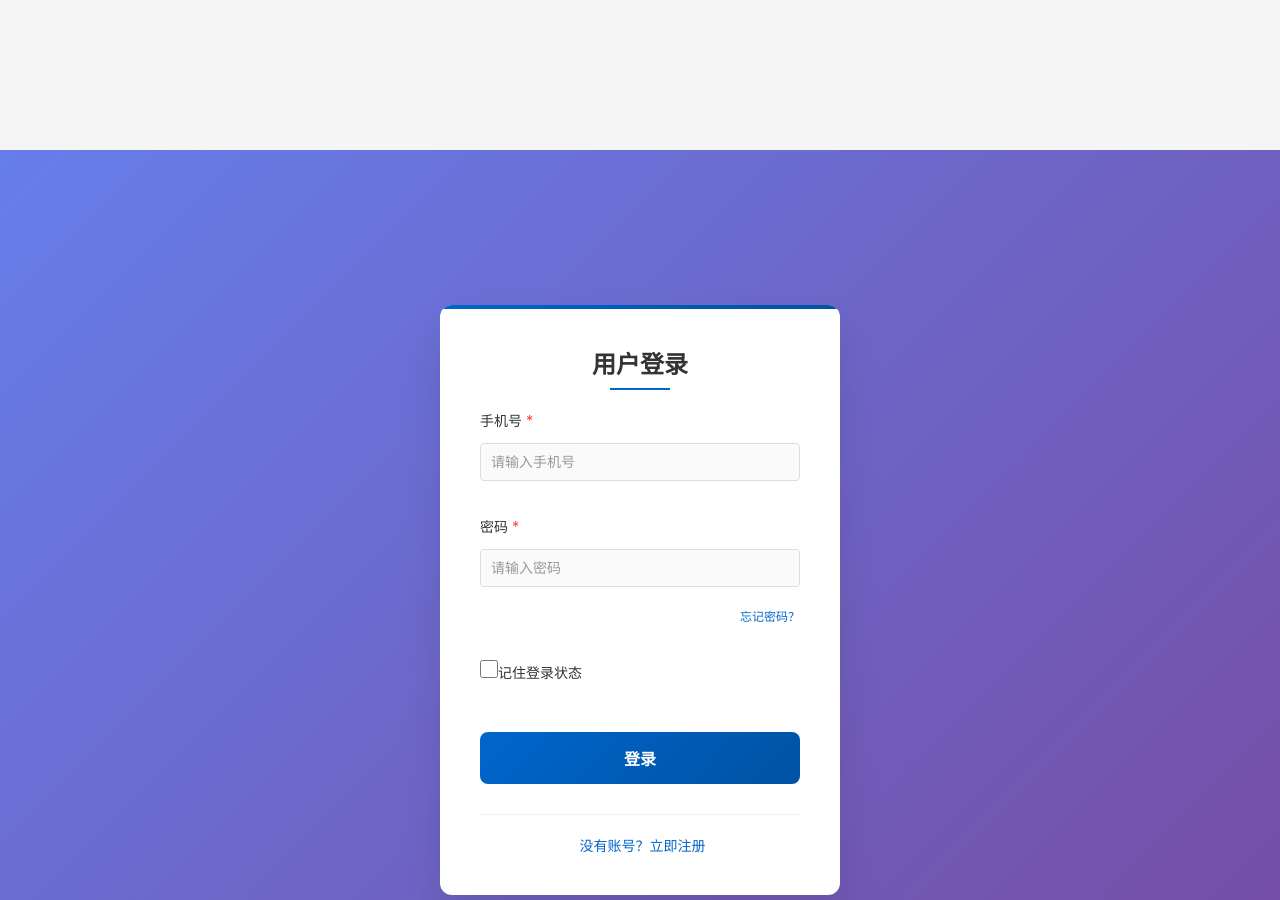
Scenario: LoginPage Component › 应该处理登录失败 - 密码错误
The image size is (1280, 900).
Type "13800138000" into the field labelled "手机号" at (640, 462), box [480,443,800,481]
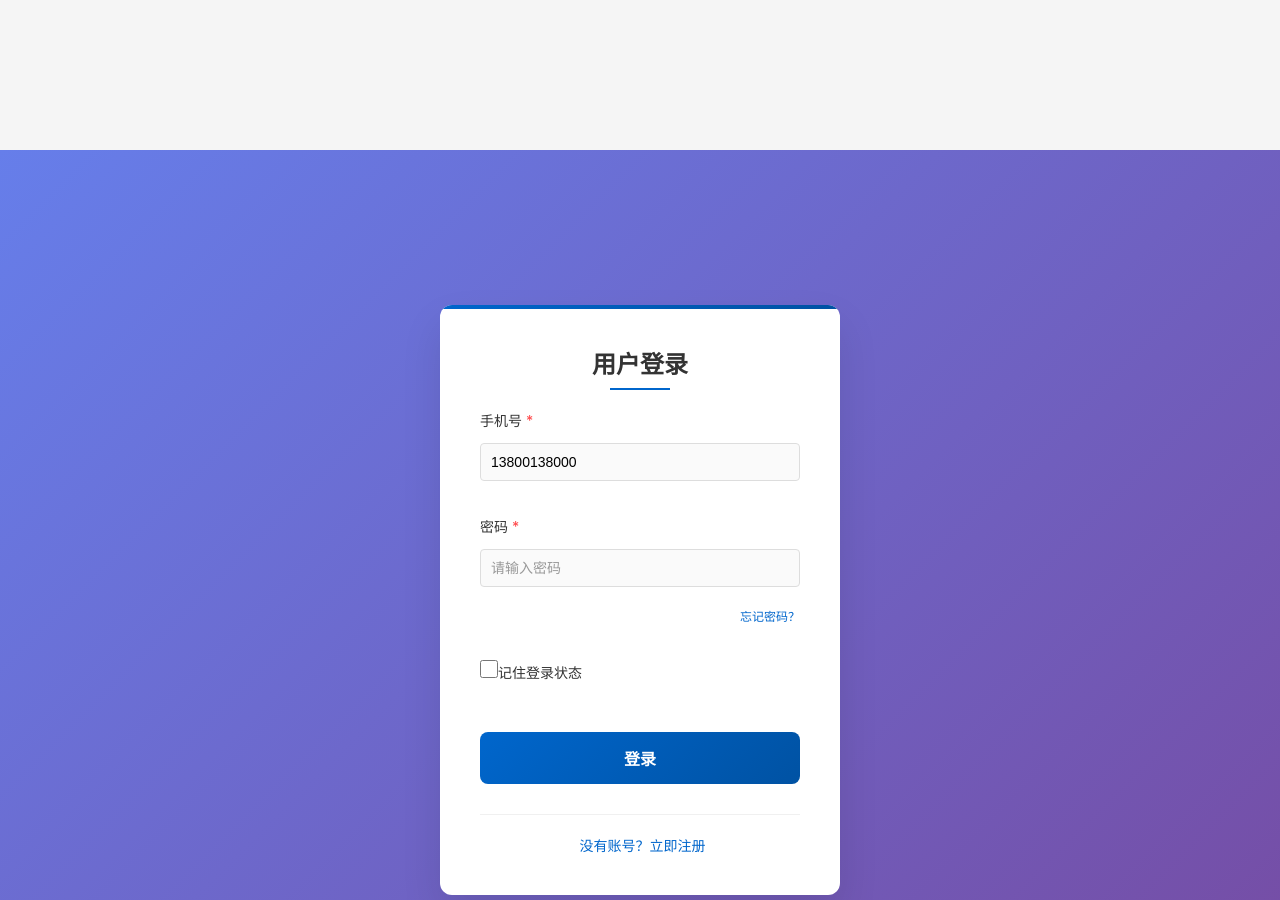
Type "wrongpassword" into the password field labelled "密码" at (640, 568), box [480,549,800,587]
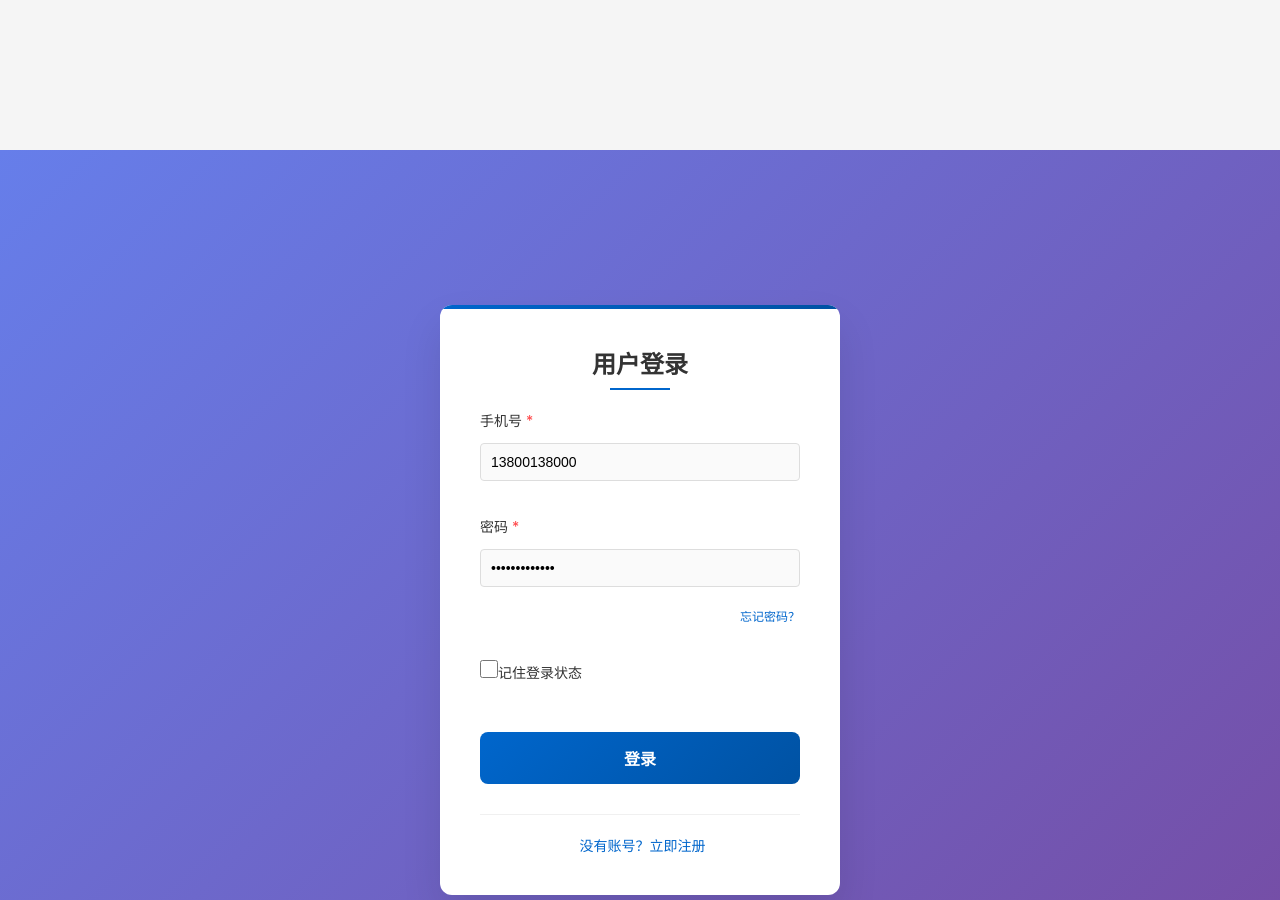
Click the button "登录" at (640, 758), box [480,732,800,784]
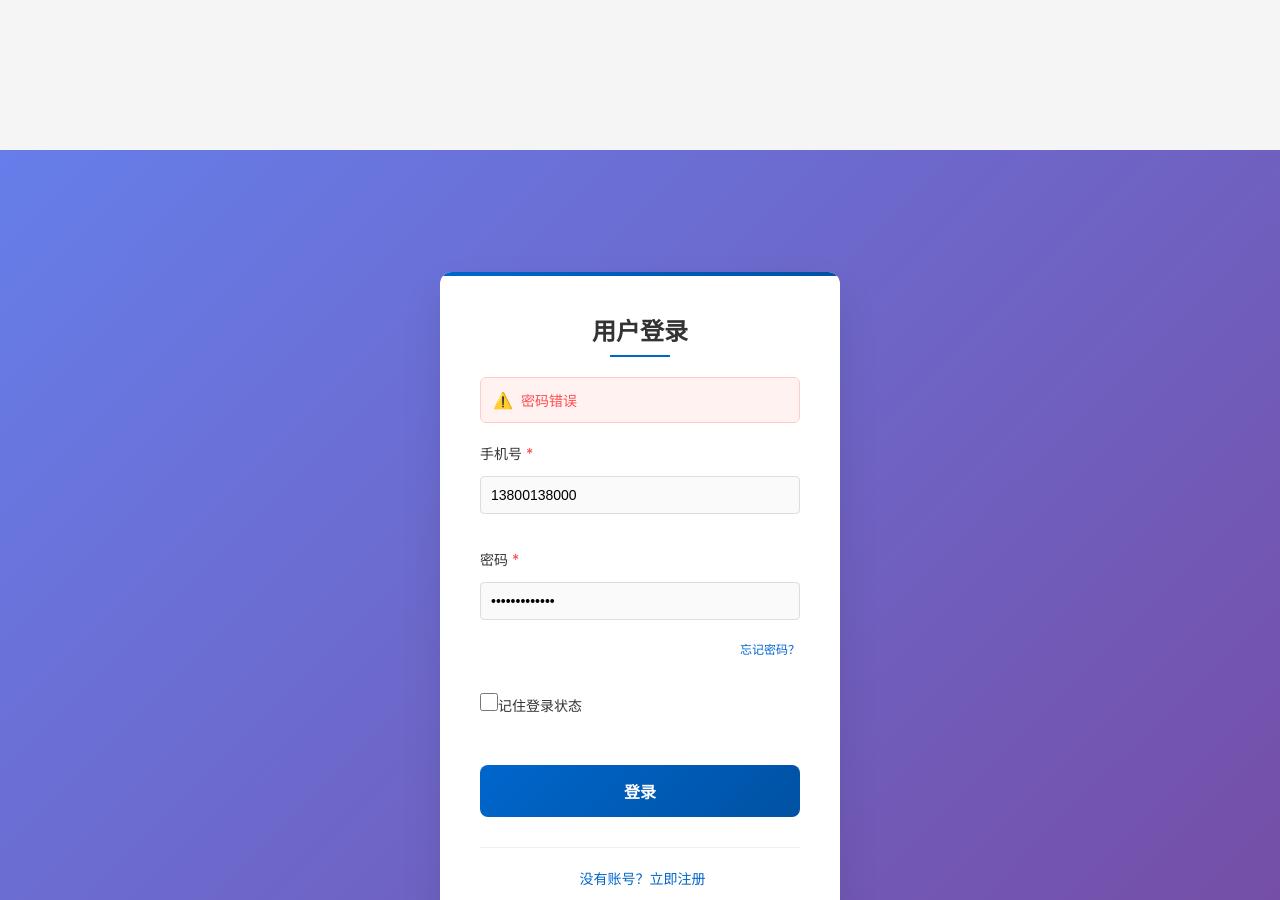
expect the text "密码错误" is shown: met, box [480,377,800,423]
